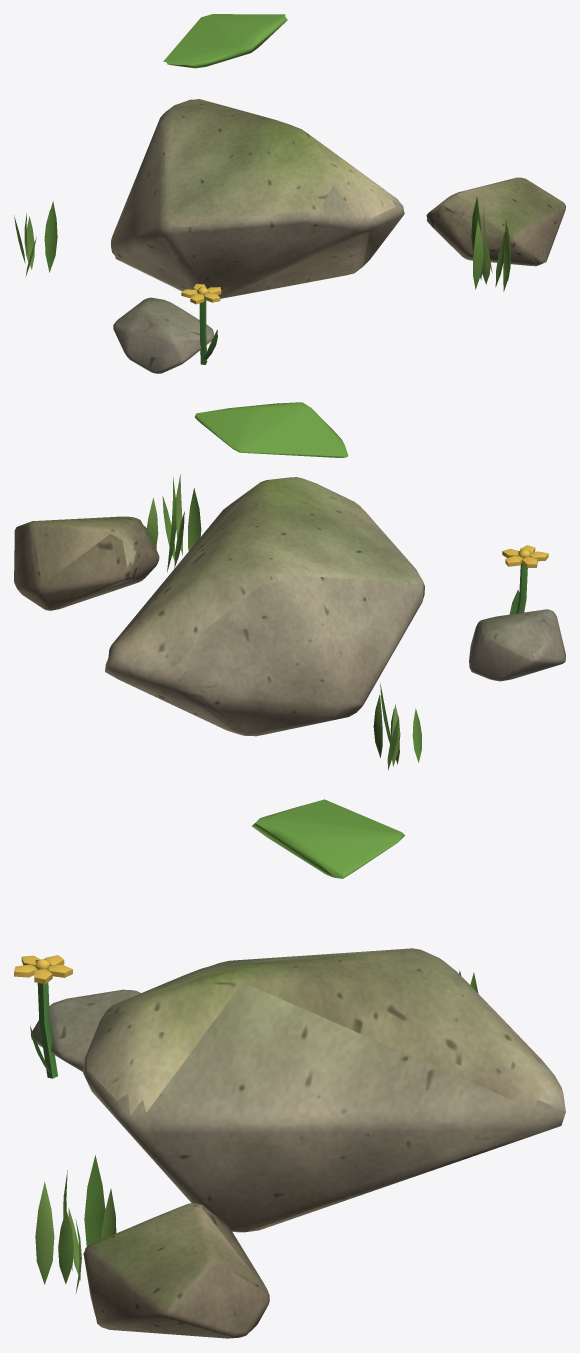
The model's file is rock.gltf.
3 renders of one model, top to bottom at view 1: azimuth 30°, elevation 25°; view 2: azimuth 150°, elevation 25°; view 3: azimuth 270°, elevation 25°, orthographic. The views are drawn at different scales.
Visible parts, largest first — view 1: Stones, Rock; view 2: Stones, Rock; view 3: Stones, Rock.
Part boxes in pixels (box(x1,y1,x2,y2)): Stones: box(111, 99, 565, 373); Rock: box(14, 14, 510, 364); Stones: box(14, 477, 565, 736); Rock: box(146, 402, 548, 770); Stones: box(31, 948, 565, 1338); Rock: box(14, 799, 478, 1293).
Size of the model in its own units: 1.72 by 0.8706 by 1.24.
Materials: 8 (1 with a texture image).
